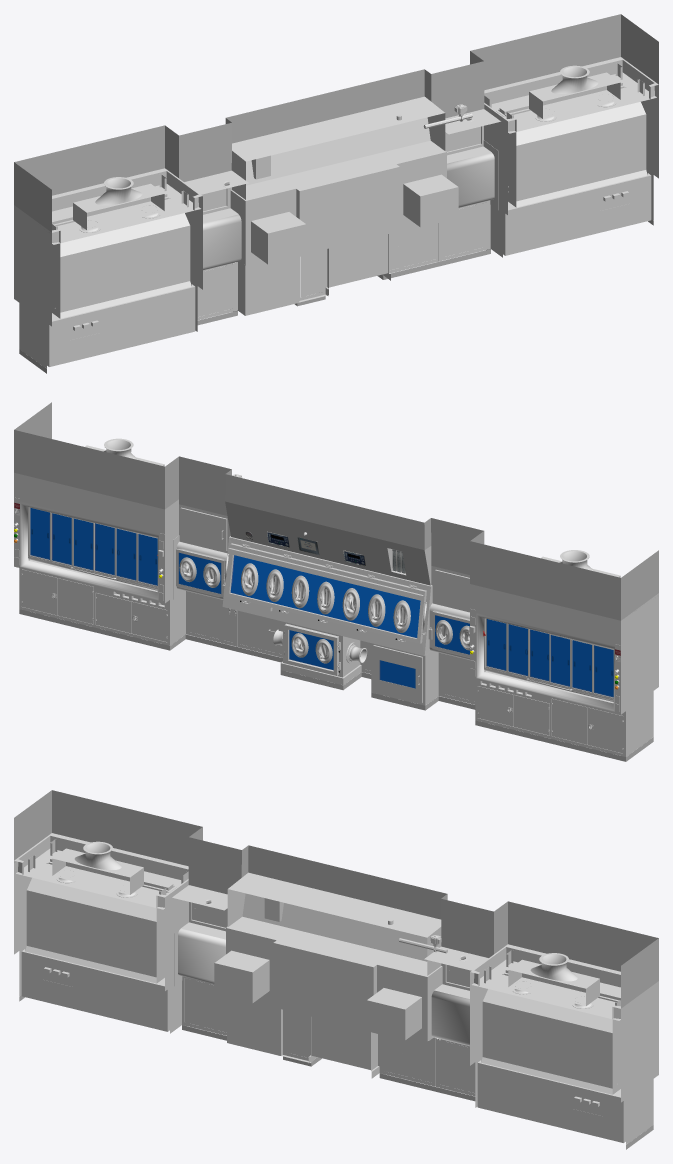
File: large isolator.fbx
3 renders of one model, top to bottom at view 1: azimuth 30°, elevation 25°; view 2: azimuth 150°, elevation 25°; view 3: azimuth 330°, elevation 25°, orthographic.
Parts seen in each view (by area): view 1: fumehood cover large, fume hood frame.001, fume hood frame.002, isolator 2.001, Cube.064, Cube.010, Cube.093, Cube.017, Cube.066, isolator 3, Cube.073, Cube.072 (+13 smaller); view 2: fumehood cover large, fume hood frame.001, fume hood frame.002, isolator 2 door.001, Cube.064, isolator 2.001, Cube.017, 3" large isolator plate, Cube.066, fume hood frame.004, Plane.015, Cube.047 (+29 smaller); view 3: fumehood cover large, fume hood frame.002, fume hood frame.001, isolator 2.001, Cube.064, Cube.010, Cube.093, Cube.017, isolator 3, Cube.066, Cube.073, Cube.072 (+13 smaller).
Boxes of the visible parts, <box> form: fumehood cover large: <box>14,14,658,233</box>; fume hood frame.001: <box>14,168,202,326</box>; fume hood frame.002: <box>484,57,658,214</box>; isolator 2.001: <box>230,140,446,265</box>; Cube.064: <box>231,96,445,199</box>; Cube.010: <box>47,284,195,366</box>; Cube.093: <box>503,173,651,255</box>; Cube.017: <box>381,200,492,276</box>; Cube.066: <box>239,257,299,315</box>; isolator 3: <box>325,234,390,295</box>; Cube.073: <box>251,212,306,264</box>; Cube.072: <box>403,174,458,227</box>; fumehood cover large: <box>14,402,658,620</box>; fume hood frame.001: <box>470,584,658,714</box>; fume hood frame.002: <box>14,472,178,603</box>; isolator 2 door.001: <box>225,543,426,643</box>; Cube.064: <box>225,501,431,585</box>; isolator 2.001: <box>222,536,432,655</box>; Cube.017: <box>186,591,282,657</box>; 3" large isolator plate: <box>19,609,653,761</box>; Cube.066: <box>371,643,438,705</box>; fume hood frame.004: <box>475,679,653,756</box>; Plane.015: <box>227,545,424,600</box>; Cube.047: <box>179,504,230,553</box>; fumehood cover large: <box>14,790,658,1008</box>; fume hood frame.002: <box>470,944,658,1102</box>; fume hood frame.001: <box>14,833,188,990</box>; isolator 2.001: <box>226,916,442,1041</box>; Cube.064: <box>227,872,441,975</box>; Cube.010: <box>21,949,169,1031</box>; Cube.093: <box>477,1060,625,1142</box>; Cube.017: <box>378,1034,475,1096</box>; isolator 3: <box>308,1016,379,1078</box>; Cube.066: <box>227,997,281,1055</box>; Cube.073: <box>214,950,269,1003</box>; Cube.072: <box>367,988,421,1040</box>.
Size of the model in its own units: 1015 by 300 by 138.
